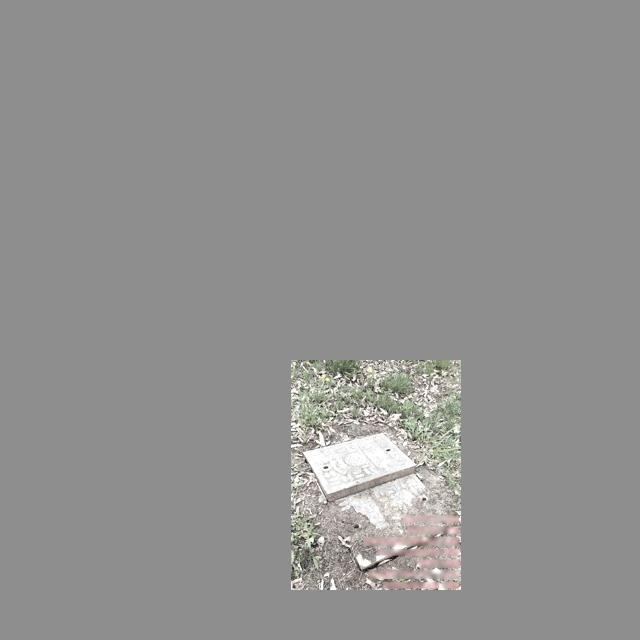uncovered: (304, 431, 456, 569)
